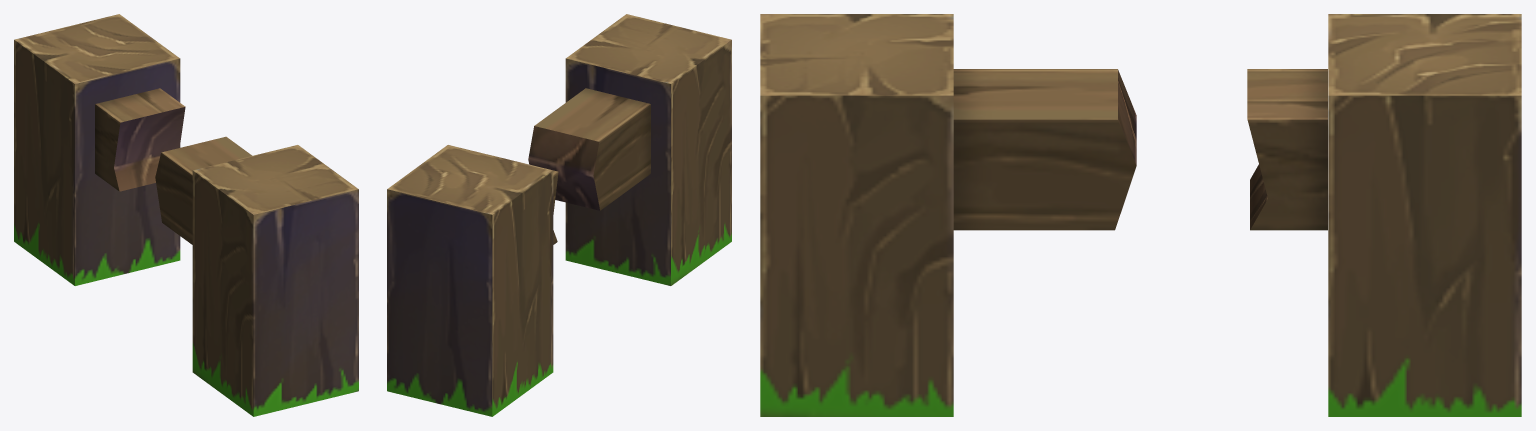
The model's file is scenes_town_stakes01b.FBX.
3 views of the same model, side by side, from view 1: azimuth 30°, elevation 25°; view 2: azimuth 150°, elevation 25°; view 3: azimuth 270°, elevation 25° (orthographic). The views are drawn at different scales.
Parts seen in each view (by area): view 1: scenes_town_stakes01b; view 2: scenes_town_stakes01b; view 3: scenes_town_stakes01b.
Boxes of the visible parts, left/top/right/bottom form: scenes_town_stakes01b: left=14, top=14, right=358, bottom=416; scenes_town_stakes01b: left=387, top=14, right=731, bottom=416; scenes_town_stakes01b: left=760, top=14, right=1521, bottom=416.
Bounding box in the file's own units: 105 × 192 × 412.
